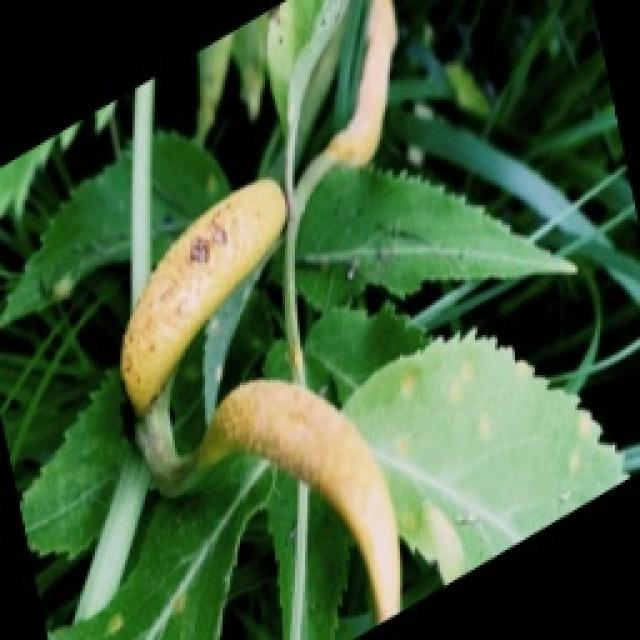Elderberry_rust: (190, 375, 402, 625), (118, 175, 288, 415)
